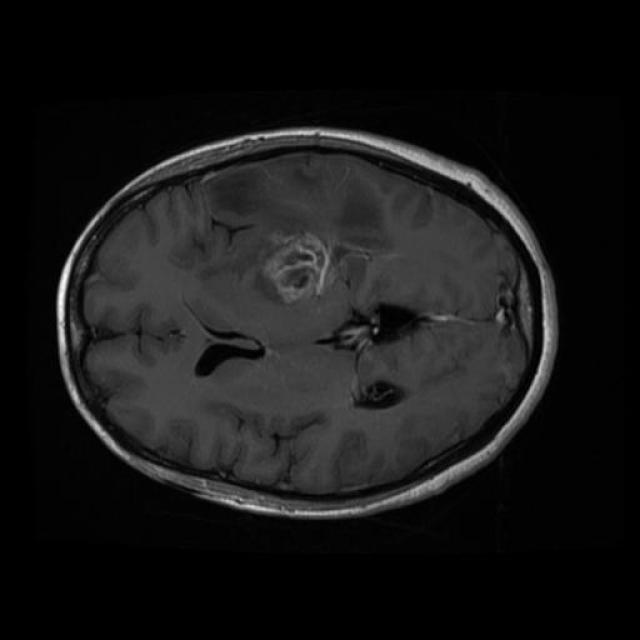Glioma: (263, 238, 330, 303)
